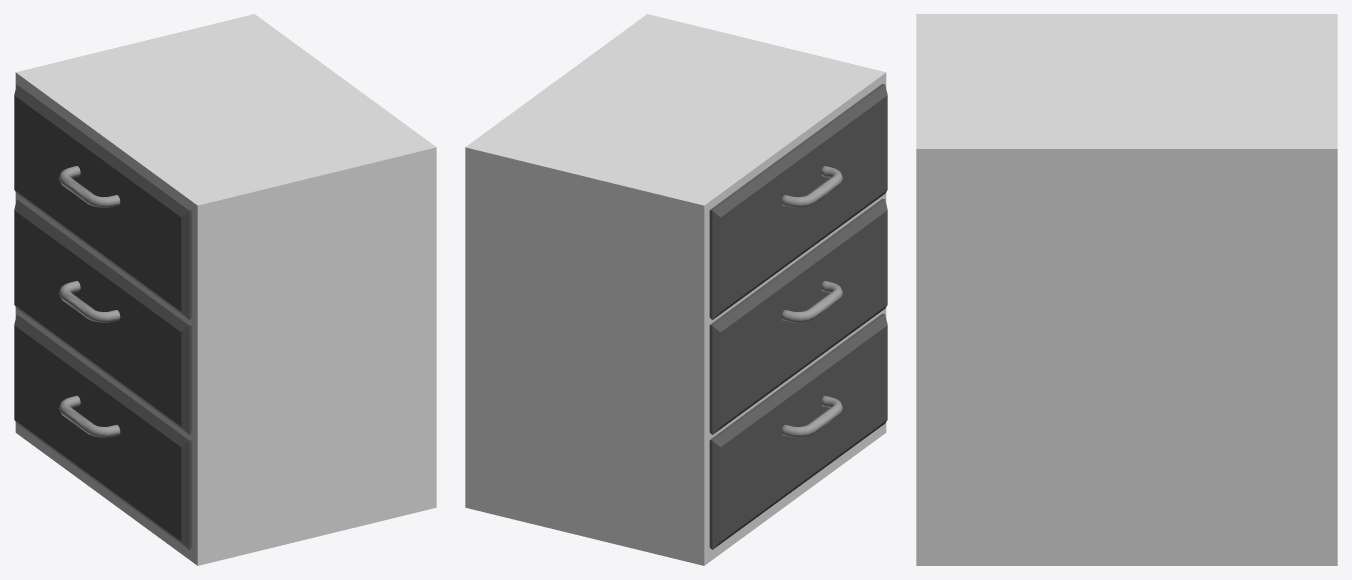
Rendered from Mutfak_Dolap_Alt_3.fbx.
The picture shows the model from 3 angles, left to right: view 1: azimuth 30°, elevation 25°; view 2: azimuth 150°, elevation 25°; view 3: azimuth 270°, elevation 25°; orthographic projection. The views are drawn at different scales.
Visible parts, largest first — view 1: Cube.003; view 2: Cube.003; view 3: Cube.003.
Part boxes in pixels (x1,y1,x2,y2): Cube.003: (14, 14, 436, 565); Cube.003: (465, 14, 887, 565); Cube.003: (916, 14, 1337, 565).
Bounding box in the file's own units: 87.99 × 111 × 102.
